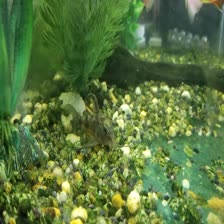Kiros: (64, 90, 122, 152)
